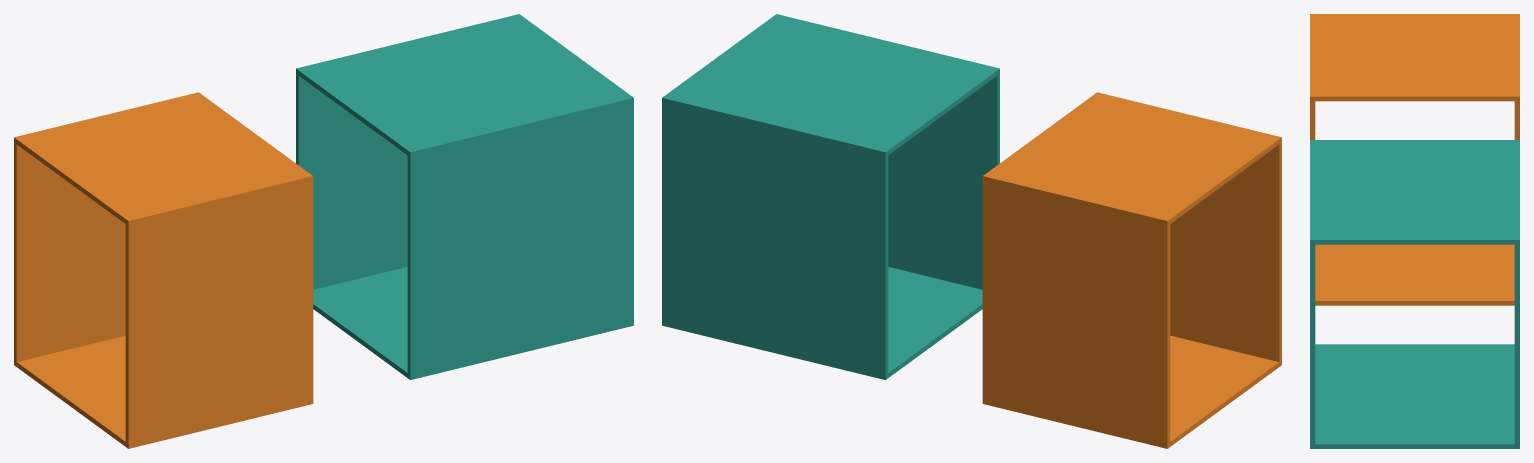
Rendered from cooling_coil_temperature.glb.
The picture shows the model from 3 angles, left to right: view 1: azimuth 30°, elevation 25°; view 2: azimuth 150°, elevation 25°; view 3: azimuth 270°, elevation 25°; orthographic projection. The views are drawn at different scales.
Visible parts, largest first — view 1: temperature__front, temperature__back; view 2: temperature__back, temperature__front; view 3: temperature__back, temperature__front.
Part boxes in pixels (box(x1,y1,x2,y2)): temperature__front: box(71, 56, 633, 448); temperature__back: box(14, 14, 576, 406); temperature__back: box(662, 56, 1224, 448); temperature__front: box(719, 14, 1281, 406); temperature__back: box(1415, 14, 1519, 448); temperature__front: box(1310, 14, 1414, 448).
Size of the model in its own units: 2.6 by 1.12 by 1.02.
